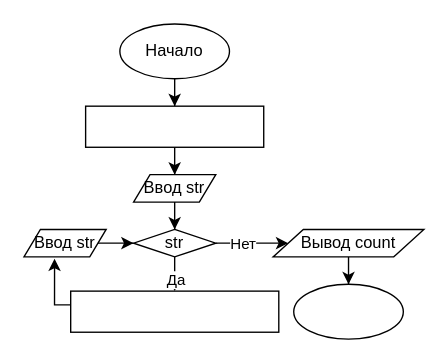
Some shapes in this 448 by 363 pixel diagram are drawn without their labels. Each missing label, with the centre of its shape:
count += str.find("st") != npos || str.find("ts") != npos: point 174,311
Конец: point 347,311
Целое число count = 0 Строка str: point 174,126
